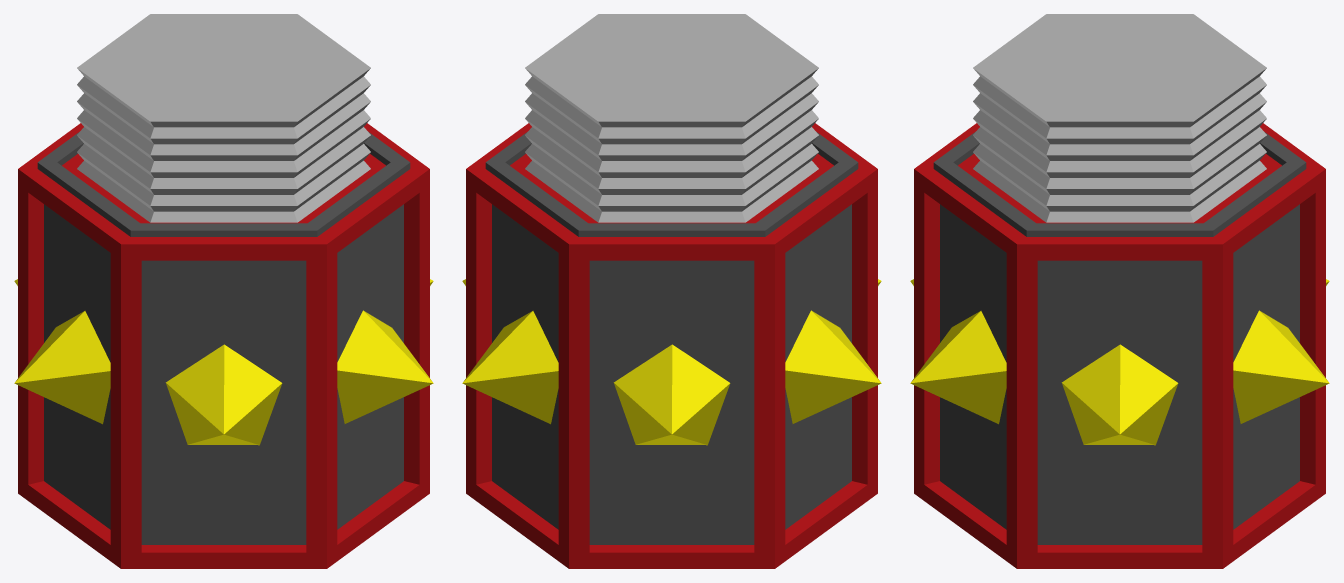
Rendered from TempCannonBase.fbx.
3 renders of one model, left to right at view 1: azimuth 30°, elevation 25°; view 2: azimuth 150°, elevation 25°; view 3: azimuth 270°, elevation 25°, orthographic.
Parts seen in each view (by area): view 1: Mesh; view 2: Mesh; view 3: Mesh.
Part boxes in pixels (<box>): Mesh: <box>14,14,433,568</box>; Mesh: <box>462,14,881,568</box>; Mesh: <box>910,14,1329,568</box>.
Bounding box in the file's own units: 1.35 × 1.31 × 1.17.
